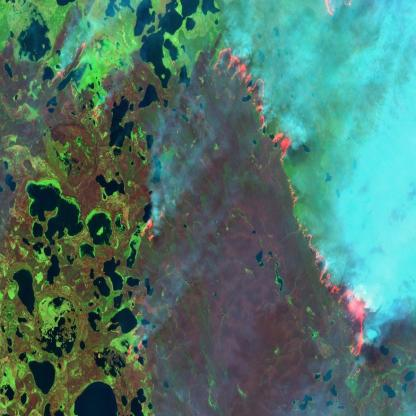fire: (45, 0, 375, 392)
